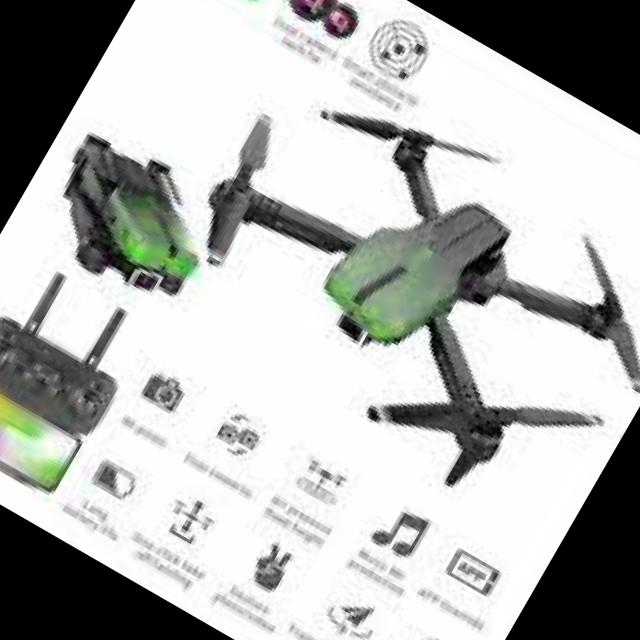drone: (141, 47, 640, 550)
